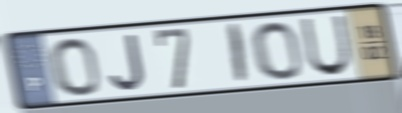7: (152, 27, 191, 91)
I: (227, 22, 249, 87)
J: (108, 32, 148, 93)
O: (248, 19, 306, 82), (46, 35, 104, 98)
U: (298, 13, 353, 79)
